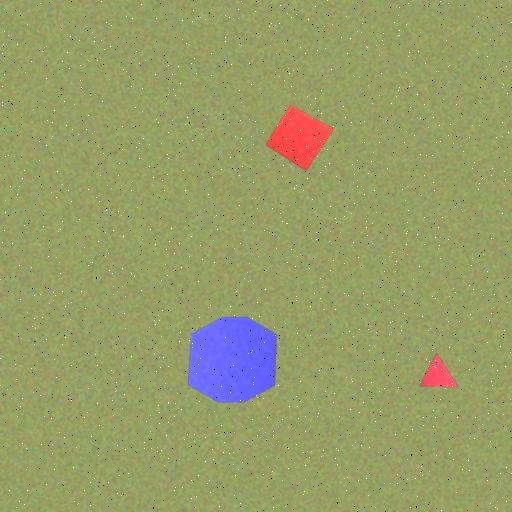RED_SQUARE: (265, 104, 334, 172)
